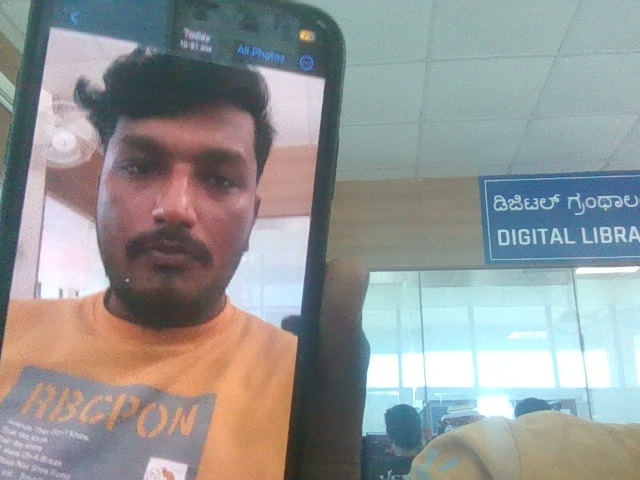fake: (67, 21, 286, 332)
